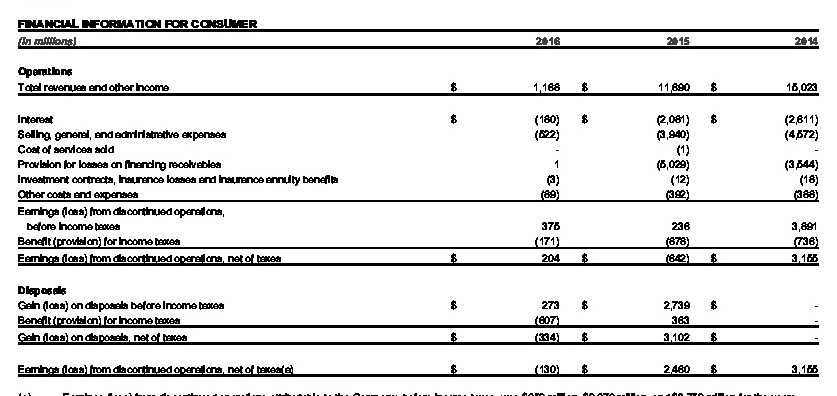table: (0, 0, 837, 396)
